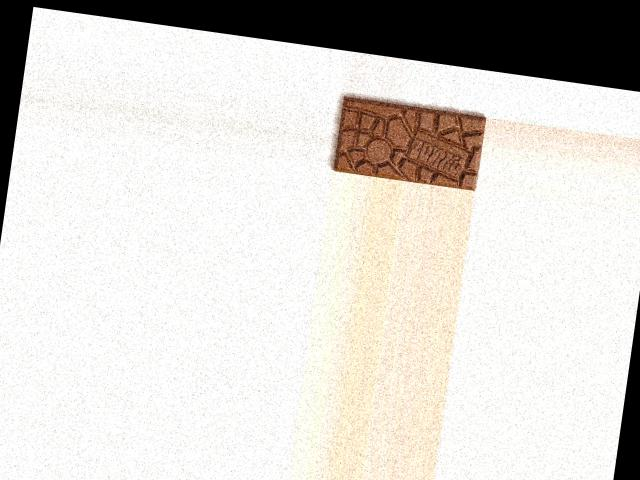chocolate: (331, 92, 487, 190)
